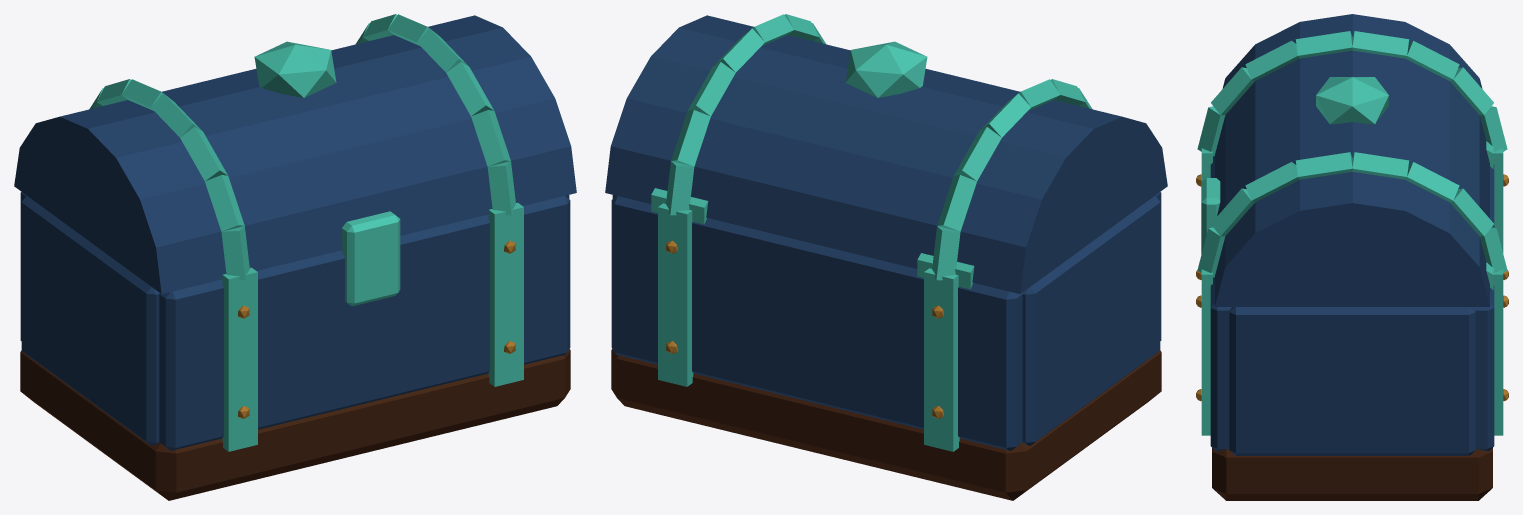
Rendered from Chest1.fbx.
The picture shows the model from 3 angles, left to right: view 1: azimuth 30°, elevation 25°; view 2: azimuth 150°, elevation 25°; view 3: azimuth 270°, elevation 25°; orthographic projection. The views are drawn at different scales.
Parts seen in each view (by area): view 1: Chest1_Mesh, Lid.001_Mesh; view 2: Chest1_Mesh, Lid.001_Mesh; view 3: Lid.001_Mesh, Chest1_Mesh.
Boxes of the visible parts, bbox=[...] form: Chest1_Mesh: bbox=[20, 192, 570, 500]; Lid.001_Mesh: bbox=[14, 14, 576, 306]; Chest1_Mesh: bbox=[611, 192, 1161, 500]; Lid.001_Mesh: bbox=[605, 14, 1167, 293]; Lid.001_Mesh: bbox=[1197, 14, 1507, 306]; Chest1_Mesh: bbox=[1196, 148, 1508, 500].
Bounding box in the file's own units: 0.795 × 0.645 × 0.5458.
